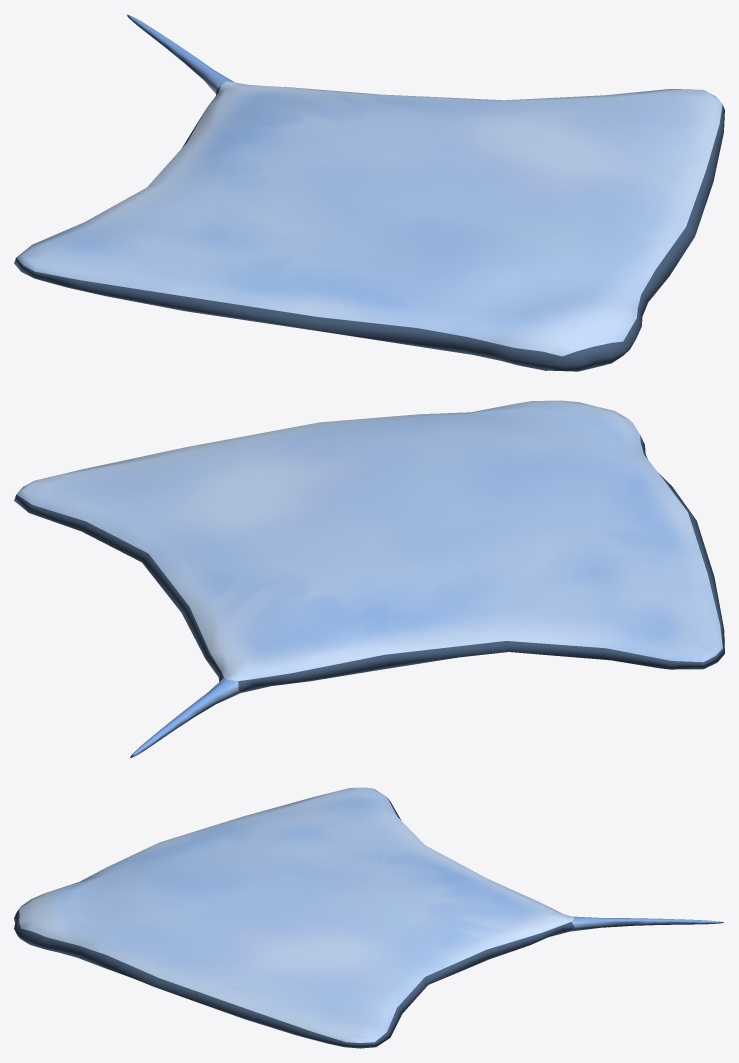
The model's file is stingray.fbx.
3 renders of one model, top to bottom at view 1: azimuth 30°, elevation 25°; view 2: azimuth 150°, elevation 25°; view 3: azimuth 270°, elevation 25°, orthographic. The views are drawn at different scales.
Visible parts, largest first — view 1: pCube1; view 2: pCube1; view 3: pCube1.
Part boxes in pixels (box(x1,y1,x2,y2)): pCube1: box(14, 14, 724, 371); pCube1: box(14, 400, 724, 758); pCube1: box(14, 787, 723, 1048).
Size of the model in its own units: 3.89 by 0.2919 by 4.55.
Materials: 2 (1 with a texture image).
